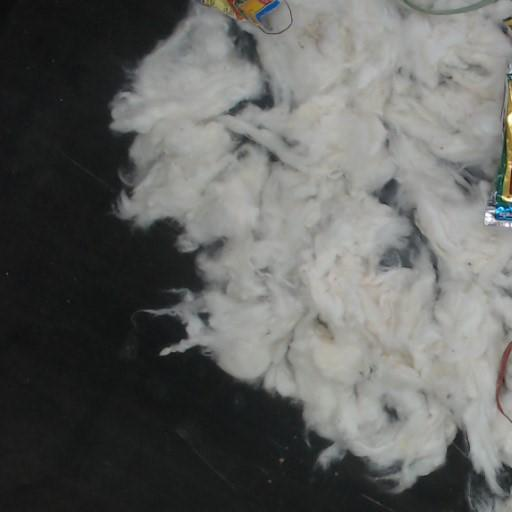cotton: (111, 0, 511, 511)
packet: (484, 64, 511, 227), (202, 0, 280, 32), (504, 17, 511, 36)
thread: (400, 0, 496, 14), (497, 341, 511, 423)
